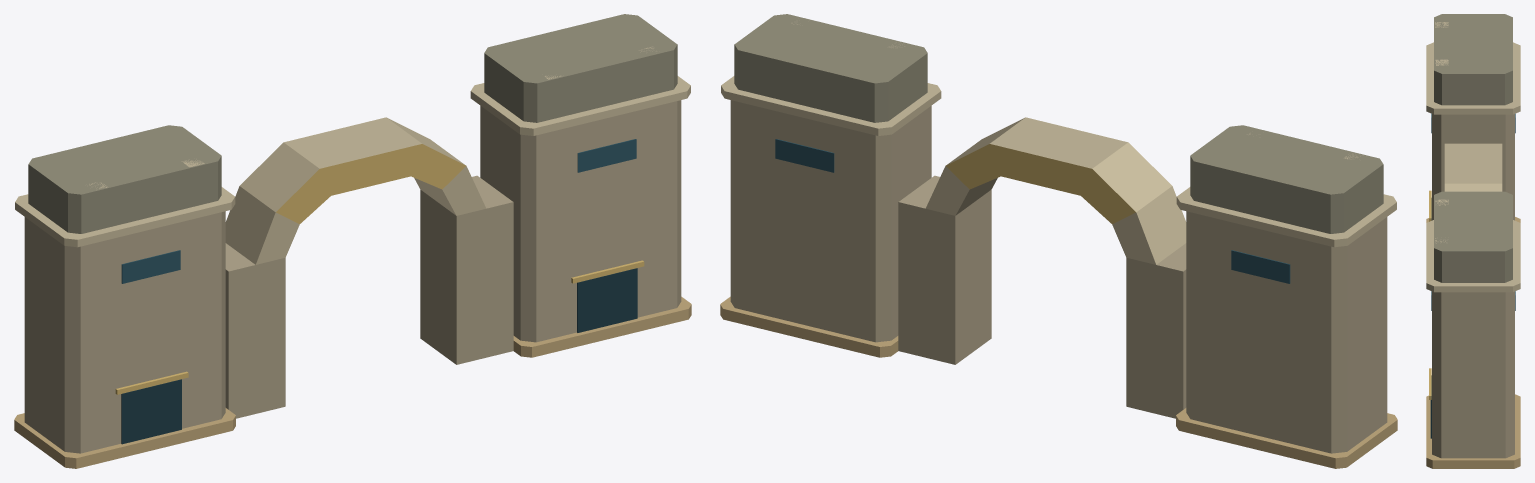
Rendered from coastal-gate.glb.
3 views of the same model, side by side, from view 1: azimuth 30°, elevation 25°; view 2: azimuth 150°, elevation 25°; view 3: azimuth 270°, elevation 25° (orthographic). The views are drawn at different scales.
Visible parts, largest first — view 1: intact_structure; view 2: intact_structure; view 3: intact_structure.
Boxes of the visible parts, <box> form: intact_structure: <box>14,14,691,468</box>; intact_structure: <box>720,14,1397,468</box>; intact_structure: <box>1426,14,1520,468</box>.
Size of the model in its own units: 22 by 9 by 3.6.
